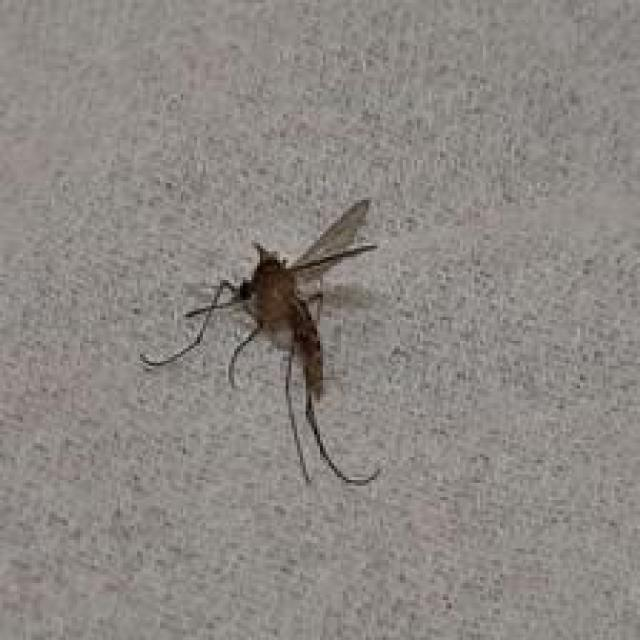Culex: (139, 196, 384, 487)
